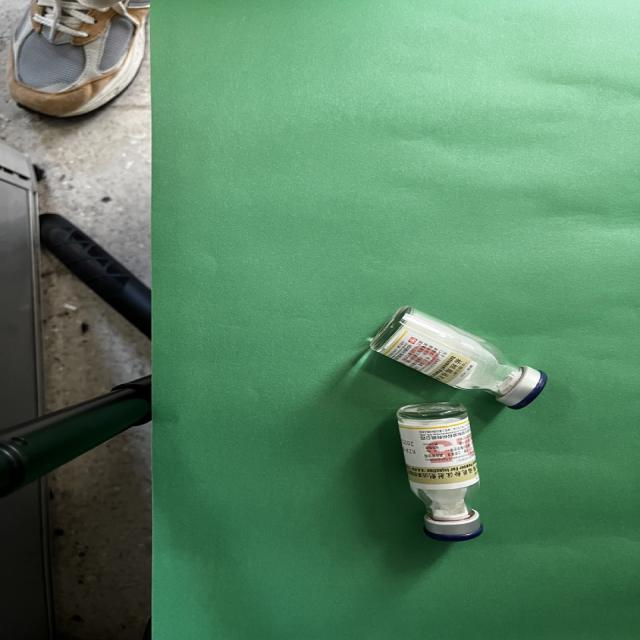Vials: (370, 306, 549, 410), (396, 402, 483, 543)
